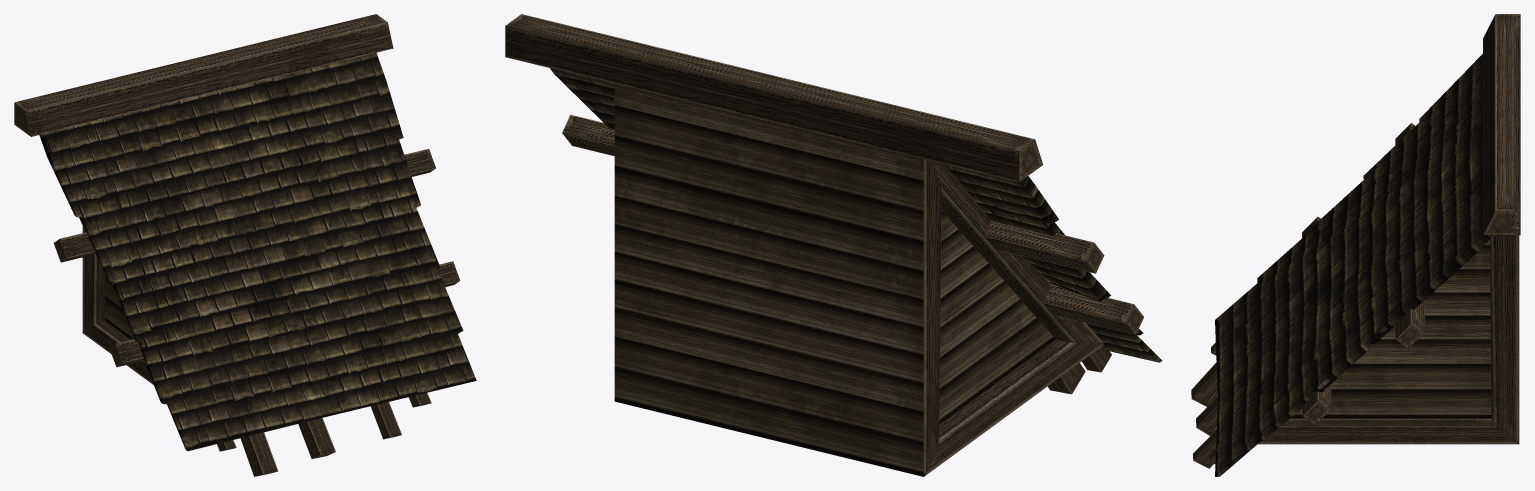
File: Roof_6X6_02c.fbx
The picture shows the model from 3 angles, left to right: view 1: azimuth 30°, elevation 25°; view 2: azimuth 150°, elevation 25°; view 3: azimuth 270°, elevation 25°; orthographic projection. The views are drawn at different scales.
Visible parts, largest first — view 1: Roof_6X6_02c; view 2: Roof_6X6_02c; view 3: Roof_6X6_02c.
Boxes of the visible parts, box(x1,y1,x2,y2) form: Roof_6X6_02c: box(14, 14, 476, 476); Roof_6X6_02c: box(505, 14, 1162, 476); Roof_6X6_02c: box(1191, 14, 1520, 476).
Bounding box in the file's own units: 10.16 × 7.85 × 7.05.
